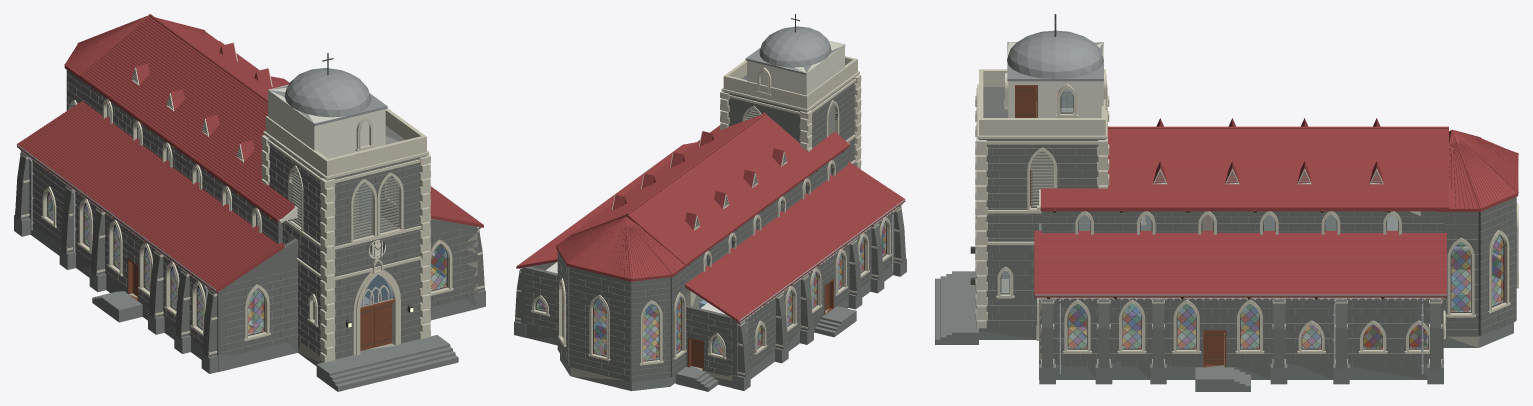
File: grand_fond_parish_church_codex.glb
3 renders of one model, left to right at view 1: azimuth 30°, elevation 25°; view 2: azimuth 150°, elevation 25°; view 3: azimuth 270°, elevation 25°, orthographic. The views are drawn at different scales.
Parts seen in each view (by area): view 1: new_roof_metal_oxblood, basalt_masonry, new_limestone_pale_aged, basalt_dressed, rubble_pointing, limewash, new_zinc_dome_aged, glass, painted_timber_warmgrey, steel_painted_worn, galvanized_steel, limestone_flag (+4 smaller); view 2: new_roof_metal_oxblood, basalt_masonry, new_limestone_pale_aged, basalt_dressed, glass, new_zinc_dome_aged, rubble_pointing, limewash, steel_painted_worn, limestone_flag, galvanized_steel, white_peeling_timber (+2 smaller); view 3: new_roof_metal_oxblood, basalt_masonry, new_limestone_pale_aged, basalt_dressed, glass, rubble_pointing, new_zinc_dome_aged, limewash, steel_painted_worn, limestone_flag, galvanized_steel, painted_timber_warmgrey (+5 smaller).
Part boxes in pixels (x1,y1,x2,y2): new_roof_metal_oxblood: (17, 14, 483, 292); basalt_masonry: (15, 70, 484, 359); new_limestone_pale_aged: (15, 98, 484, 362); basalt_dressed: (14, 215, 485, 391); rubble_pointing: (30, 74, 477, 357); limewash: (88, 85, 385, 241); new_zinc_dome_aged: (269, 68, 387, 125); glass: (47, 106, 446, 334); painted_timber_warmgrey: (132, 70, 399, 239); steel_painted_worn: (47, 53, 447, 335); galvanized_steel: (16, 79, 481, 304); limestone_flag: (118, 235, 444, 362); new_roof_metal_oxblood: (516, 112, 905, 322); basalt_masonry: (515, 75, 905, 381); new_limestone_pale_aged: (515, 56, 901, 375); basalt_dressed: (514, 258, 906, 391); glass: (536, 165, 886, 360); new_zinc_dome_aged: (696, 26, 845, 223); rubble_pointing: (525, 79, 893, 379); limewash: (543, 41, 844, 343); steel_painted_worn: (535, 14, 886, 361); limestone_flag: (537, 252, 861, 380); galvanized_steel: (516, 145, 904, 334); white_peeling_timber: (518, 132, 903, 323); new_roof_metal_oxblood: (1034, 118, 1518, 297); basalt_masonry: (979, 87, 1516, 379); new_limestone_pale_aged: (975, 69, 1518, 365); basalt_dressed: (935, 271, 1513, 391); glass: (1001, 88, 1503, 348); rubble_pointing: (987, 140, 1515, 366); new_zinc_dome_aged: (1007, 30, 1103, 81); limewash: (1007, 42, 1427, 346); steel_painted_worn: (970, 14, 1504, 349); limestone_flag: (1001, 270, 1500, 364); galvanized_steel: (1035, 294, 1446, 374); painted_timber_warmgrey: (1030, 151, 1381, 207).
Size of the model in its own units: 20.8 by 18.45 by 33.18.
